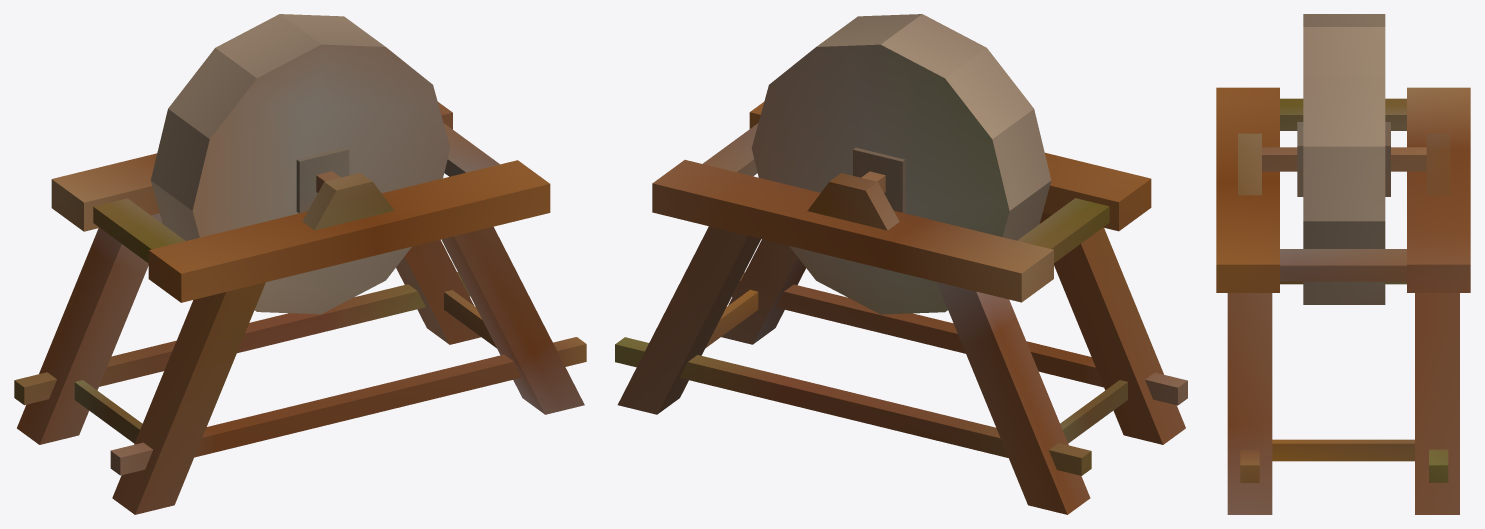
The model's file is meule.glb.
The picture shows the model from 3 angles, left to right: view 1: azimuth 30°, elevation 25°; view 2: azimuth 150°, elevation 25°; view 3: azimuth 270°, elevation 25°; orthographic projection.
Visible parts, largest first — view 1: Cylinder.045_Mat_1_0; view 2: Cylinder.045_Mat_1_0; view 3: Cylinder.045_Mat_1_0.
Part boxes in pixels (x1=…): Cylinder.045_Mat_1_0: x1=14, y1=14, x2=586, y2=514; Cylinder.045_Mat_1_0: x1=615, y1=14, x2=1187, y2=514; Cylinder.045_Mat_1_0: x1=1216, y1=14, x2=1470, y2=514.
Size of the model in its own units: 146 by 116 by 70.33.
Materials: 1 (1 with a texture image).
